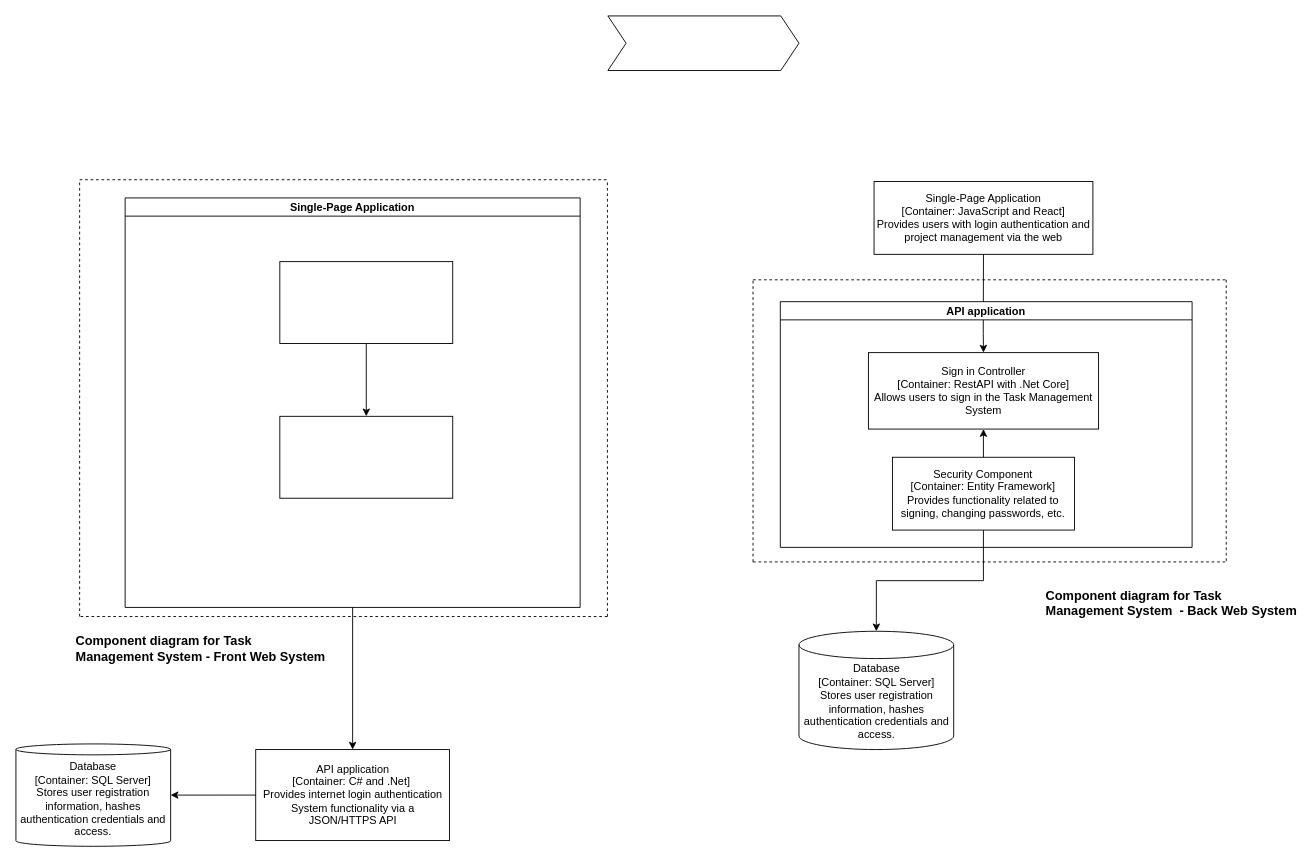
Some shapes in this 1315 by 863 pixel diagram are drawn without their labels. The centre of each missing label's shape, as x and y in pixels:
Level 3: point (703, 43)
Login Request users to input valid credentials in order to access: point (366, 302)
Main Page Allows user to view: point (366, 456)
